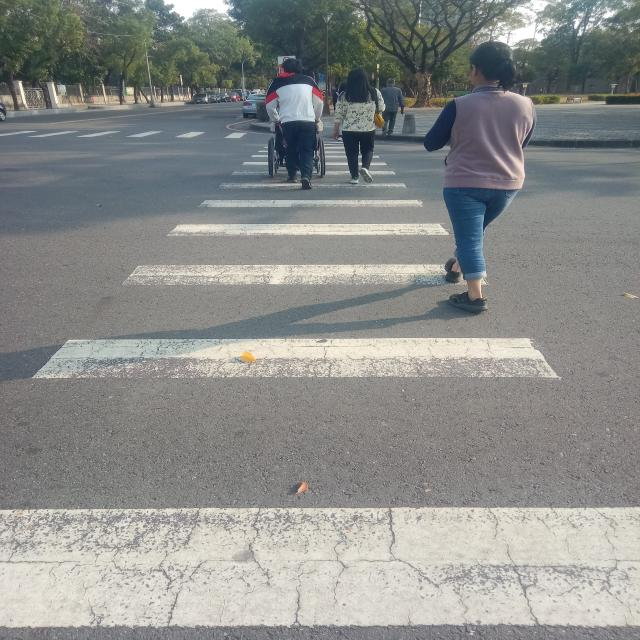zebra_crossing: (242, 155, 640, 465), (180, 89, 540, 267), (197, 61, 593, 180), (158, 77, 472, 207), (255, 0, 261, 336), (17, 59, 22, 196)
